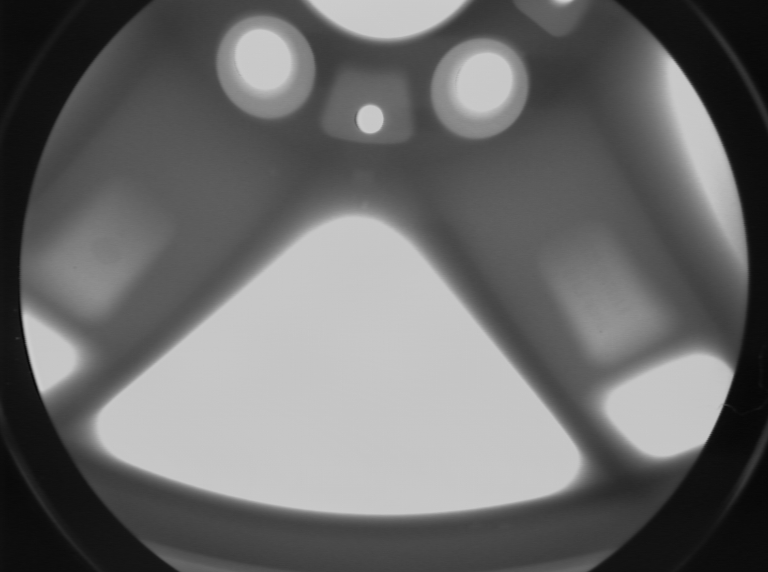defect: (263, 163, 279, 180)
